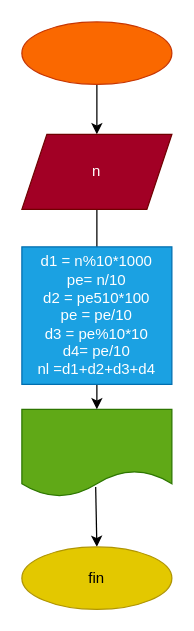
Some shapes in this 194 by 631 pixel diagram are drawn without their labels. The centre of each missing label's shape, as x and y in pixels:
inicio: (x=96, y=52)
nl: (x=96, y=452)
